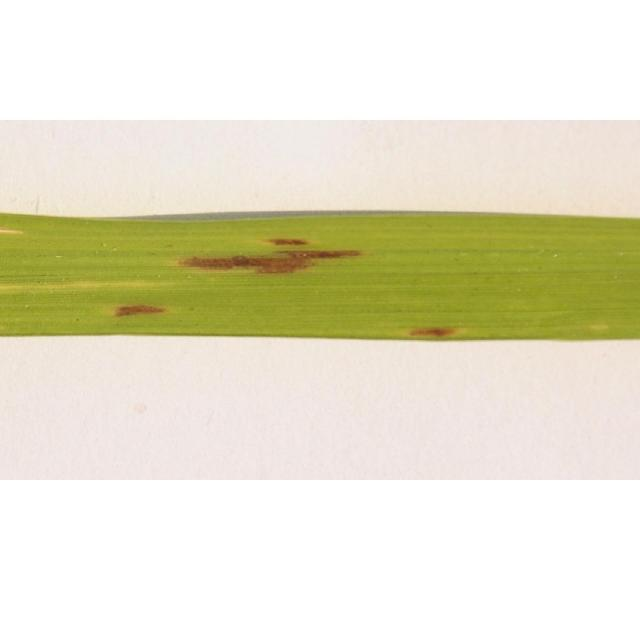Brown spot: (165, 222, 366, 281), (90, 291, 200, 325), (376, 316, 482, 338)
